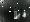person: (16, 9, 21, 19), (22, 10, 27, 19)
